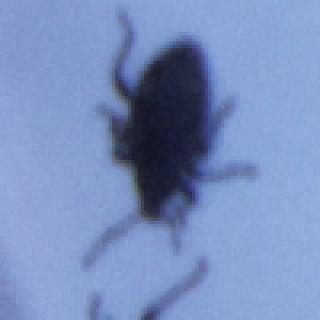bvw: (82, 10, 259, 276)
